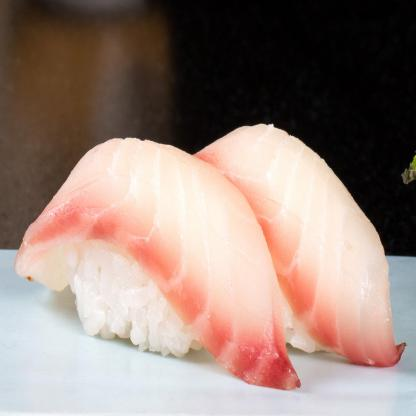tai: (9, 137, 315, 407)
